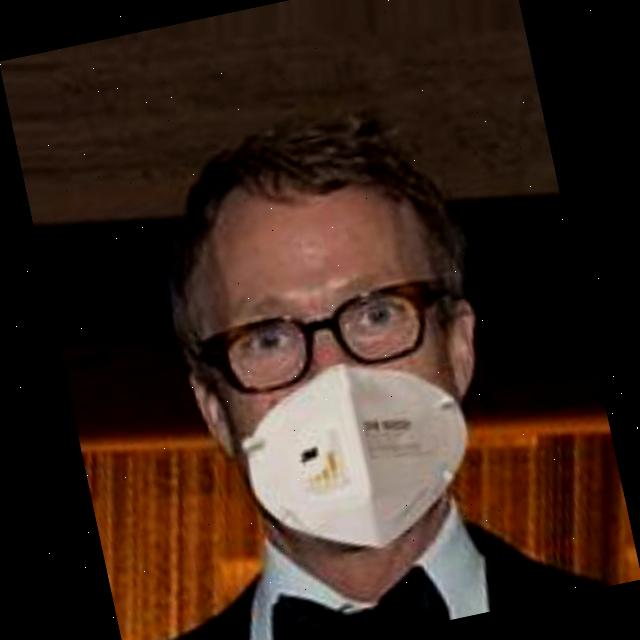suspicion: (98, 14, 532, 552)
